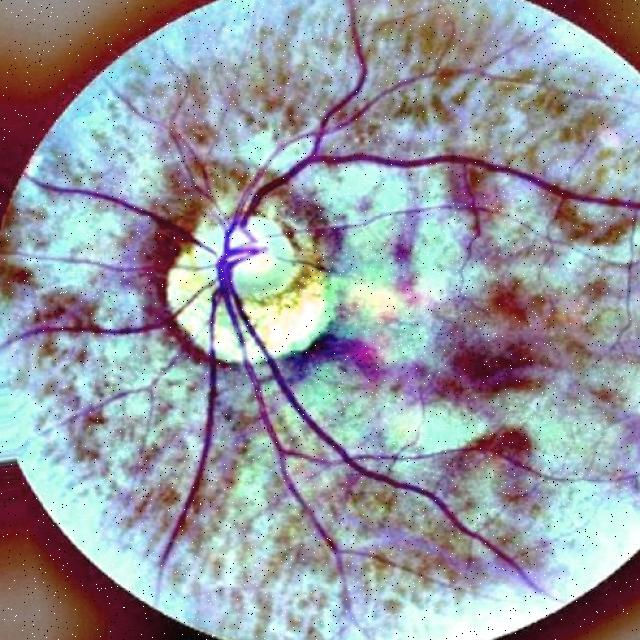Macula: (441, 283, 556, 393)
Nerves: (231, 319, 350, 625), (246, 154, 640, 212)
Optic Disk: (222, 70, 444, 256), (229, 209, 336, 356), (167, 216, 222, 347), (216, 307, 239, 360)
